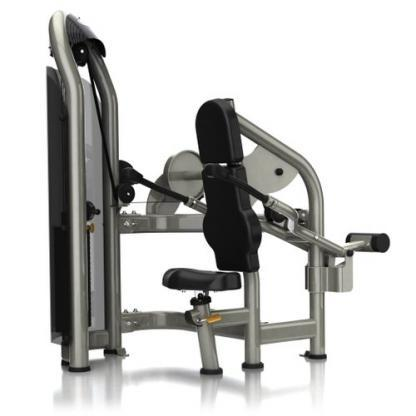seated dip machine: (48, 10, 390, 378)
